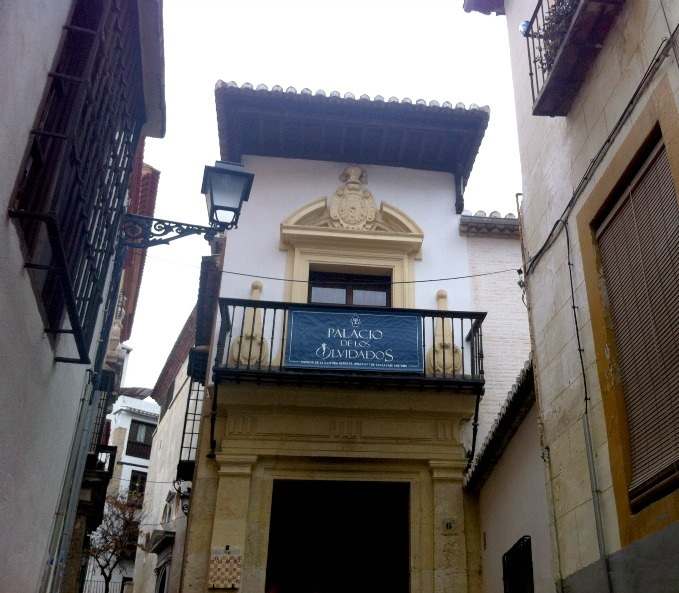fronton-partido: (279, 192, 431, 249)
